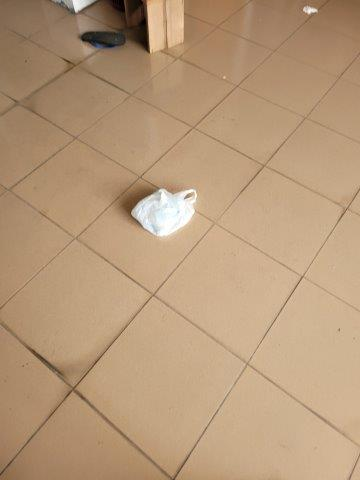plastik: (132, 188, 196, 234)
